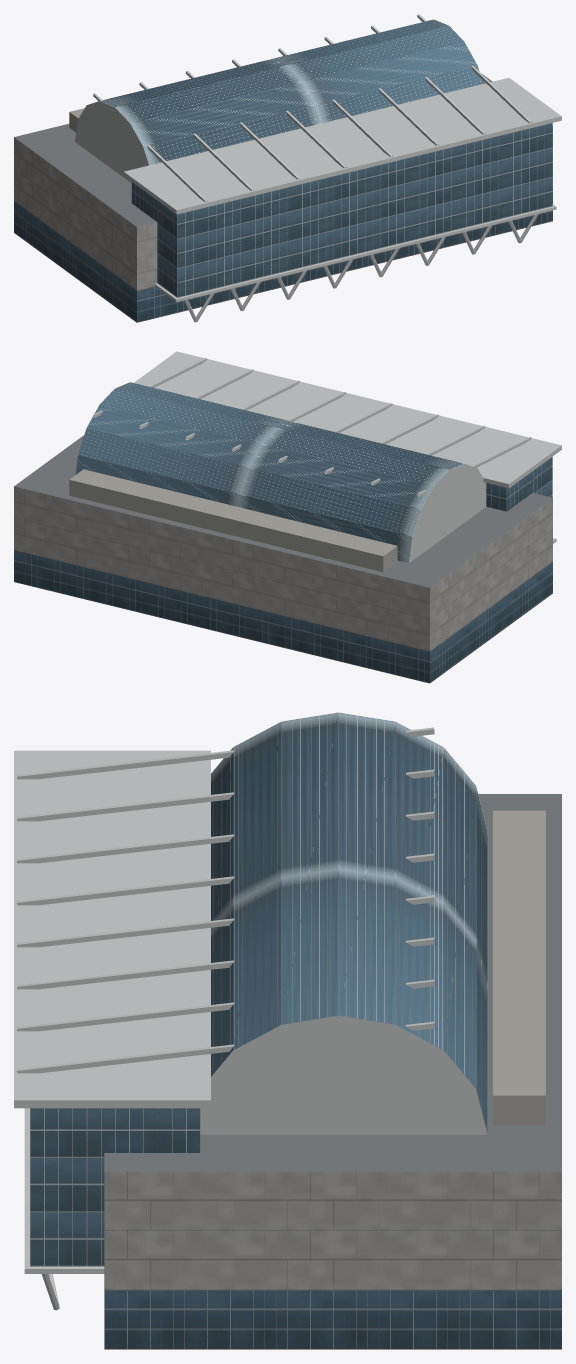
File: moscone_center.glb
3 views of the same model, one above another, from view 1: azimuth 30°, elevation 25°; view 2: azimuth 150°, elevation 25°; view 3: azimuth 270°, elevation 25° (orthographic). The views are drawn at different scales.
Parts seen in each view (by area): view 1: moscone_center; view 2: moscone_center; view 3: moscone_center.
Boxes of the visible parts, x1,y1,x2,y2 form: moscone_center: (14, 14, 561, 322); moscone_center: (14, 351, 561, 683); moscone_center: (14, 712, 561, 1349).
Bounding box in the file's own units: 81.5 × 30 × 50.
2 materials, 2 textured.
